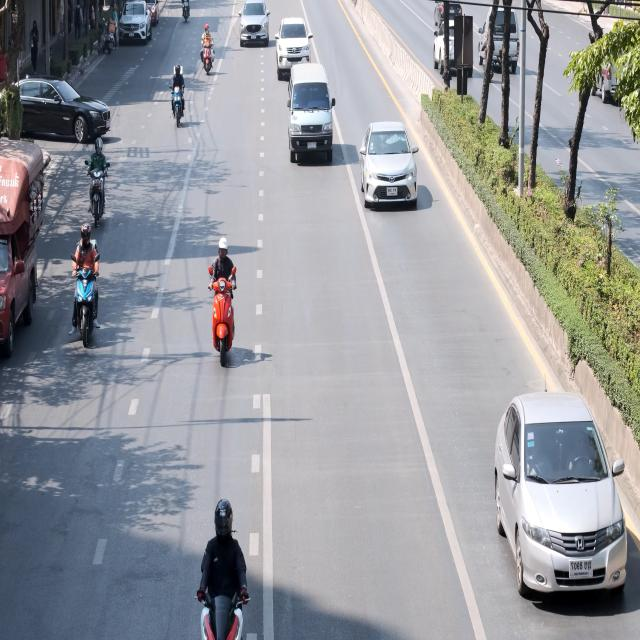cars: (481, 379, 638, 623), (0, 138, 44, 371), (0, 60, 110, 151), (277, 56, 347, 180), (352, 106, 421, 228), (580, 36, 640, 121), (274, 7, 320, 103), (476, 5, 525, 90), (424, 10, 478, 80), (232, 3, 280, 57), (112, 0, 148, 52), (420, 2, 464, 38), (132, 0, 162, 33)
motorcycle: (179, 479, 263, 640), (195, 218, 254, 376), (59, 215, 110, 355), (83, 124, 114, 239), (160, 56, 184, 144), (195, 20, 218, 98), (98, 14, 120, 58), (174, 0, 193, 28)
